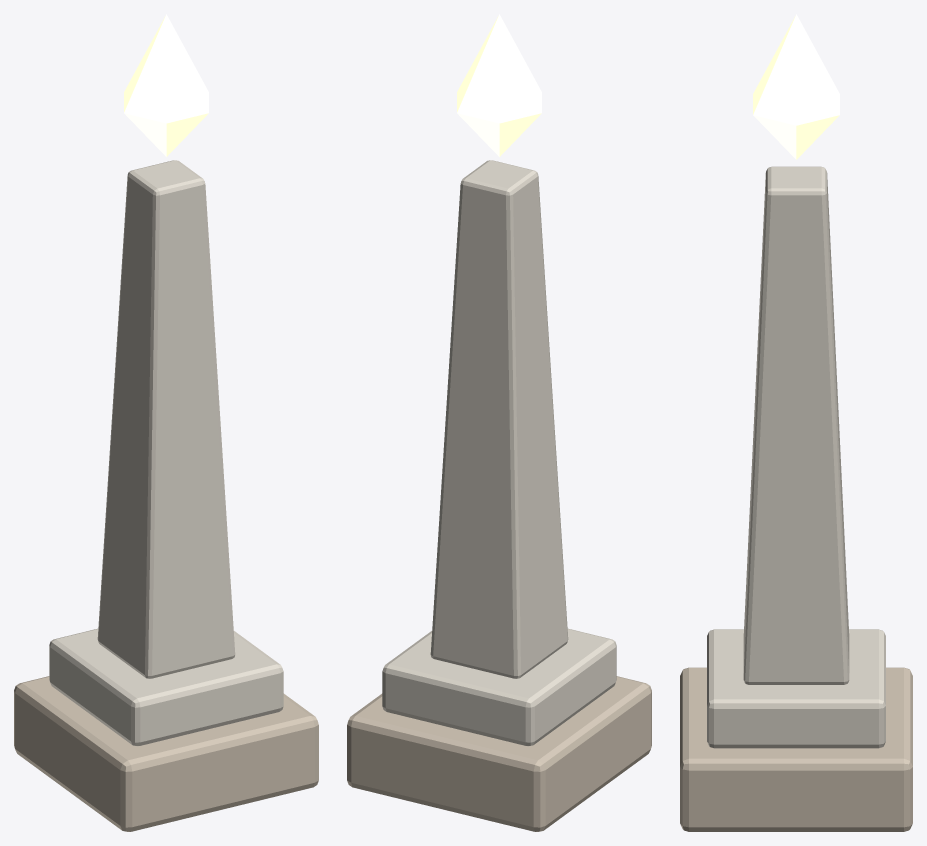
The model's file is effigy_dawn.glb.
3 views of the same model, side by side, from view 1: azimuth 30°, elevation 25°; view 2: azimuth 150°, elevation 25°; view 3: azimuth 270°, elevation 25° (orthographic).
Visible parts, largest first — view 1: obelisk, pedestal, pedestal2, tip; view 2: obelisk, pedestal, pedestal2, tip; view 3: obelisk, pedestal, pedestal2, tip.
Boxes of the visible parts, left/top/right/bottom form: obelisk: left=97, top=160, right=235, bottom=678; pedestal: left=14, top=676, right=318, bottom=831; pedestal2: left=49, top=628, right=283, bottom=746; tip: left=124, top=14, right=208, bottom=156; obelisk: left=430, top=160, right=568, bottom=678; pedestal: left=347, top=676, right=651, bottom=831; pedestal2: left=382, top=628, right=616, bottom=746; tip: left=457, top=14, right=541, bottom=156; obelisk: left=743, top=166, right=849, bottom=684; pedestal: left=680, top=667, right=912, bottom=831; pedestal2: left=707, top=629, right=885, bottom=748; tip: left=753, top=14, right=839, bottom=159.
Bounding box in the file's own units: 1.3 × 4.76 × 1.3.
